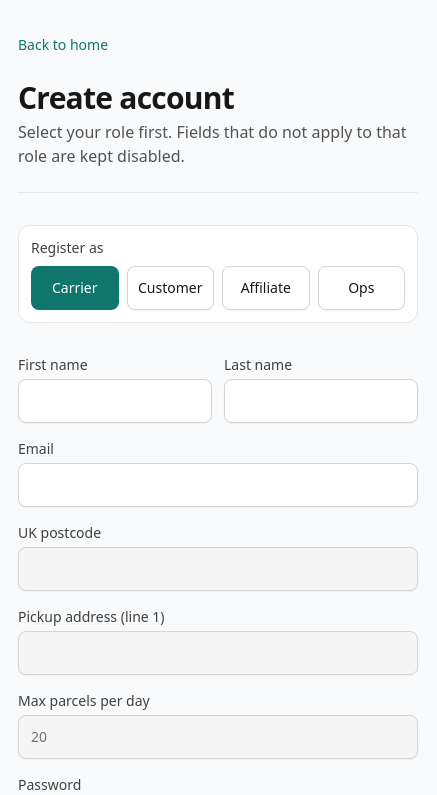
Test case: RegisterForm › shows error on failure
The width and height of the screenshot is (437, 795).
Step 1. Type "N" into the field labelled "First name" → (115, 401), box [18, 379, 212, 423]
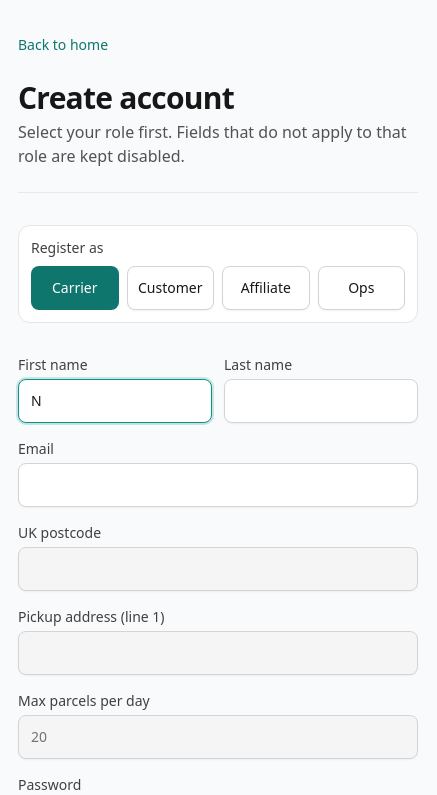
Step 2. Type "O" into the field labelled "Last name" → (321, 401), box [224, 379, 418, 423]
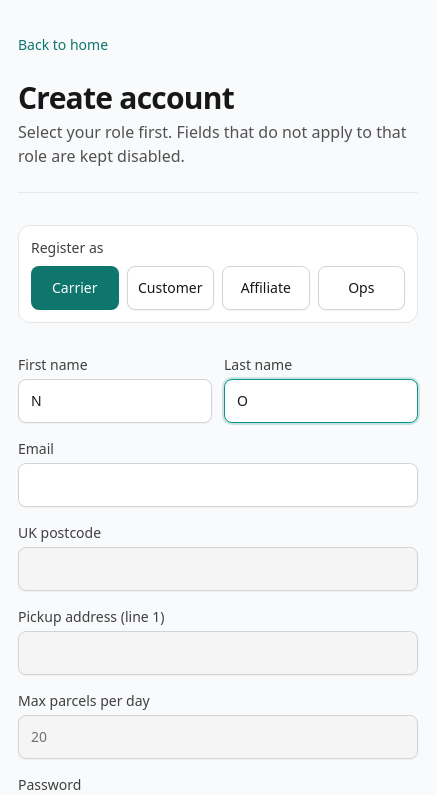
Step 3. Type "n@o.com" into the field labelled "Email" → (218, 485), box [18, 463, 418, 507]
(page scrolled)
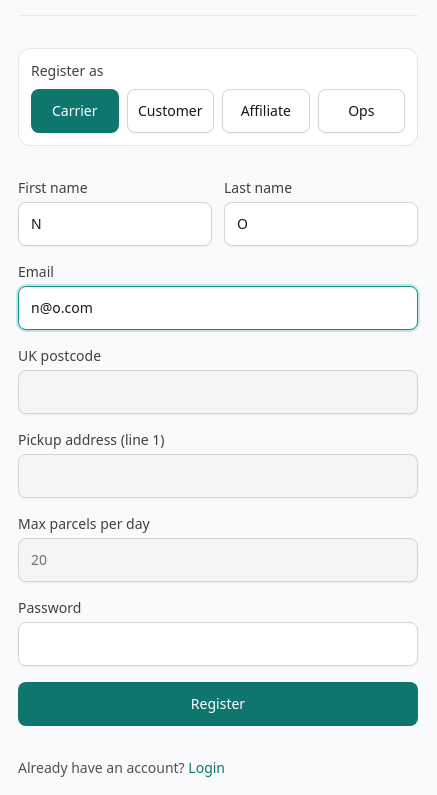
Step 4. Type "GoodPass1!x" into the password field labelled "Password" → (218, 644), box [18, 622, 418, 666]
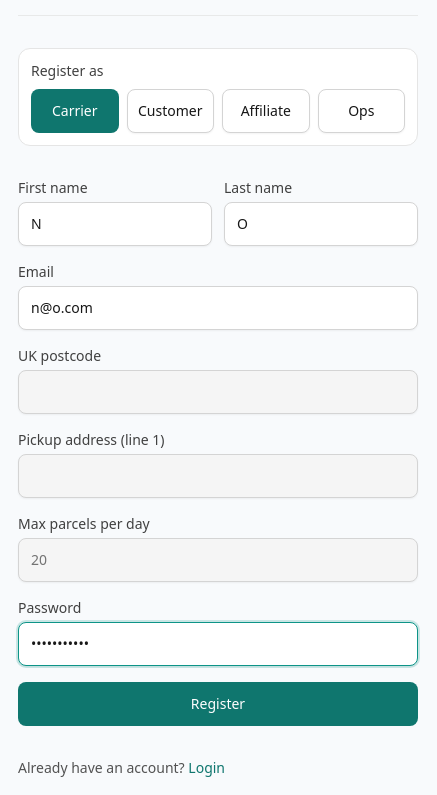
Step 5. Click the button "Register" → click(218, 704), box [18, 682, 418, 726]
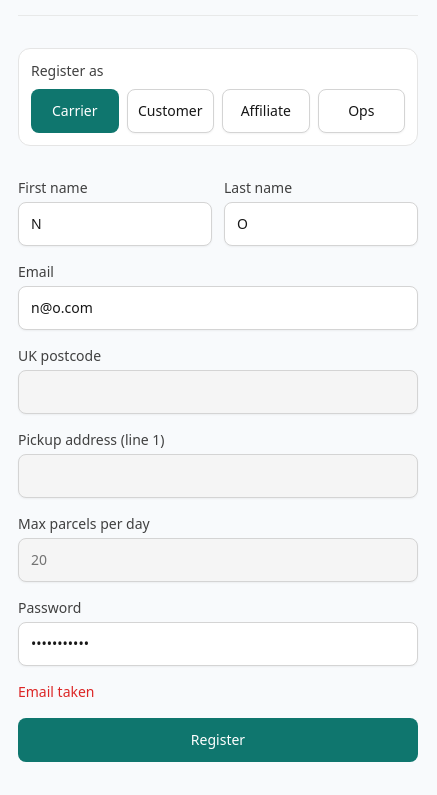
Check: the message reads "Email taken", box [18, 682, 94, 701]
